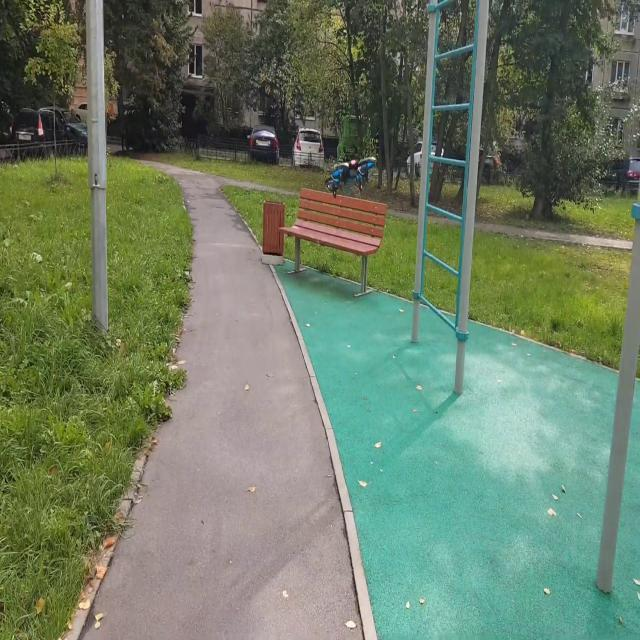Drons: (320, 152, 378, 200)
